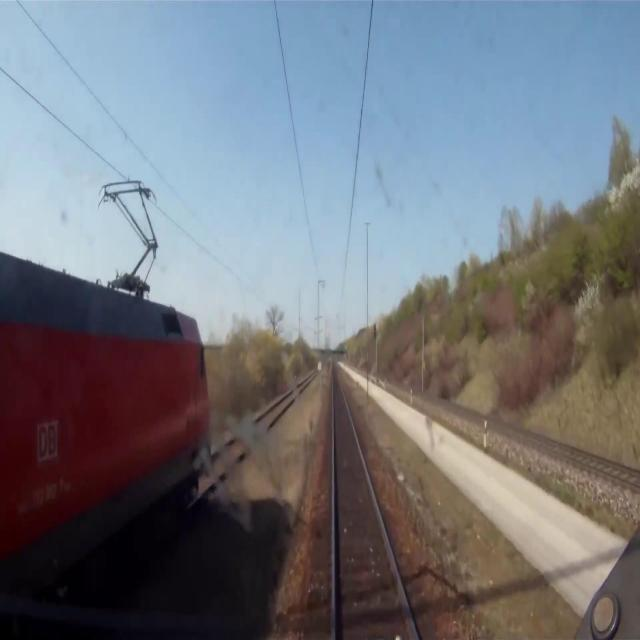rail-track: (334, 370, 414, 639), (205, 395, 293, 484), (516, 431, 640, 482)
